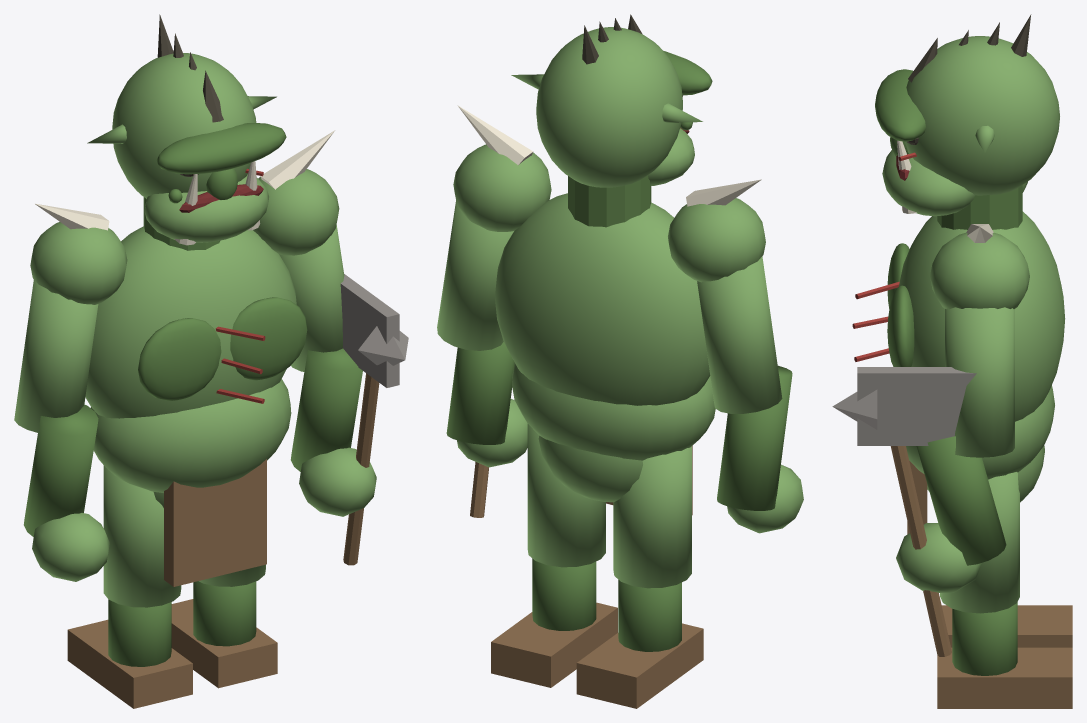
The model's file is active-creation.glb.
The picture shows the model from 3 angles, left to right: view 1: azimuth 30°, elevation 25°; view 2: azimuth 150°, elevation 25°; view 3: azimuth 270°, elevation 25°; orthographic projection. The views are drawn at different scales.
Parts seen in each view (by area): view 1: Orc | Chest, Orc | Gut, Orc | Skull, Orc | Loincloth, Orc | Left upper arm, Orc | Left thigh, Orc | Left forearm, Orc | Left shoulder, Orc | Right forearm, Orc | Left foot, Orc | Pec muscle -0.2, Orc | Right shoulder (+18 smaller); view 2: Orc | Chest, Orc | Skull, Orc | Gut, Orc | Left upper arm, Orc | Left thigh, Orc | Right upper arm, Orc | Right thigh, Orc | Left forearm, Orc | Left shoulder, Orc | Right shoulder, Orc | Left foot, Orc | Right foot (+12 smaller); view 3: Orc | Skull, Orc | Chest, Orc | Right upper arm, Orc | Axe blade, Orc | Right forearm, Orc | Right foot, Orc | Right shoulder, Orc | Right thigh, Orc | Right calf, Orc | Right fist, Orc | Jaw, Orc | Gut (+11 smaller).
Boxes of the visible parts, bbox=[...] form: Orc | Chest: bbox=[85, 226, 296, 418]; Orc | Gut: bbox=[90, 379, 291, 492]; Orc | Skull: bbox=[112, 53, 256, 198]; Orc | Loincloth: bbox=[164, 459, 266, 586]; Orc | Left upper arm: bbox=[14, 279, 98, 433]; Orc | Left thigh: bbox=[103, 465, 181, 607]; Orc | Left forearm: bbox=[23, 404, 98, 536]; Orc | Left shoulder: bbox=[30, 222, 127, 304]; Orc | Right forearm: bbox=[290, 348, 362, 471]; Orc | Left foot: bbox=[67, 619, 192, 708]; Orc | Pec muscle -0.2: bbox=[138, 318, 221, 400]; Orc | Right shoulder: bbox=[253, 169, 339, 255]; Orc | Chest: bbox=[495, 193, 710, 405]; Orc | Skull: bbox=[536, 27, 682, 187]; Orc | Gut: bbox=[512, 363, 715, 460]; Orc | Left upper arm: bbox=[697, 256, 782, 413]; Orc | Left thigh: bbox=[613, 446, 691, 588]; Orc | Right upper arm: bbox=[437, 201, 513, 350]; Orc | Right thigh: bbox=[527, 424, 605, 567]; Orc | Left forearm: bbox=[717, 365, 792, 510]; Orc | Left shoulder: bbox=[668, 198, 765, 282]; Orc | Right shoulder: bbox=[453, 144, 551, 231]; Orc | Left foot: bbox=[576, 623, 703, 708]; Orc | Right foot: bbox=[491, 602, 617, 687]; Orc | Skull: bbox=[905, 36, 1059, 195]; Orc | Chest: bbox=[899, 211, 1065, 421]; Orc | Right upper arm: bbox=[945, 307, 1014, 457]; Orc | Axe blade: bbox=[857, 367, 976, 445]; Orc | Right forearm: bbox=[916, 436, 1006, 565]; Orc | Right foot: bbox=[937, 647, 1072, 708]; Orc | Right shoulder: bbox=[930, 232, 1029, 309]; Orc | Right thigh: bbox=[940, 472, 1019, 613]; Orc | Right calf: bbox=[952, 602, 1017, 675]; Orc | Right fist: bbox=[896, 523, 981, 592]; Orc | Jaw: bbox=[882, 150, 974, 216]; Orc | Gut: bbox=[906, 385, 1054, 479].
Bounding box in the file's own units: 1.6 × 2.9 × 0.96.
